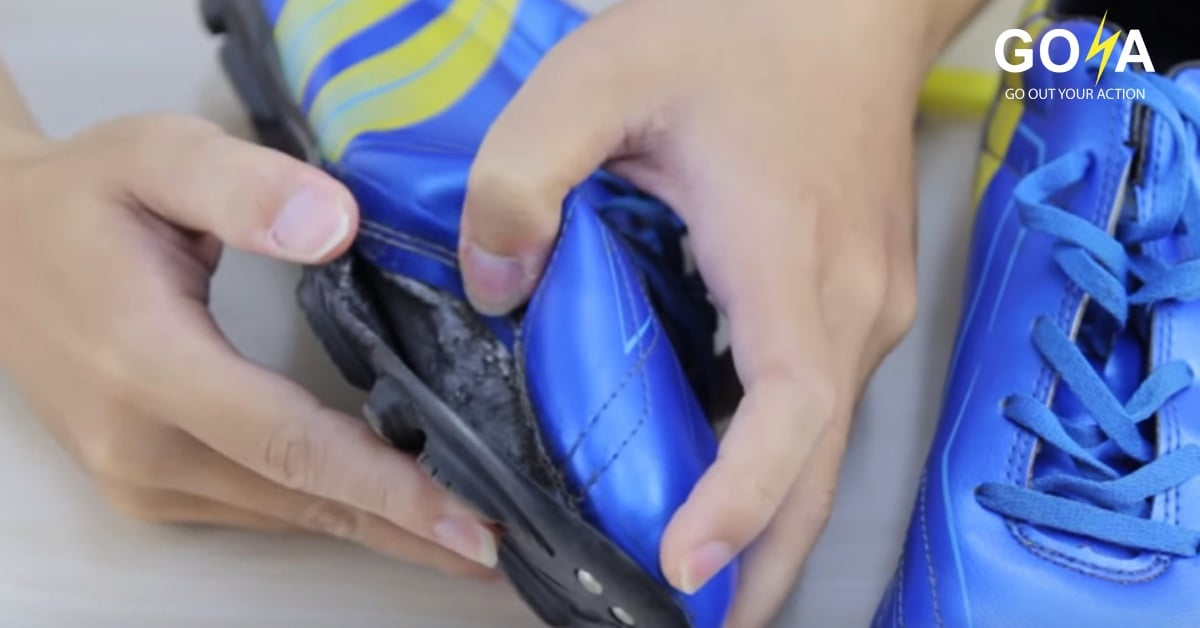bonding: (333, 228, 578, 514)
